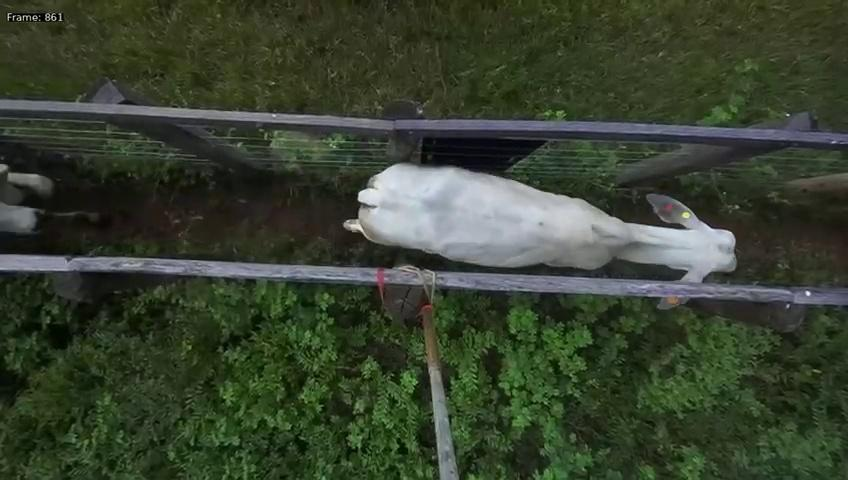cattle: (340, 127, 739, 281)
